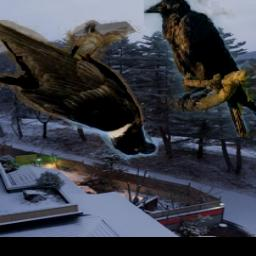Crow: (0, 20, 158, 160), (145, 0, 256, 137)
